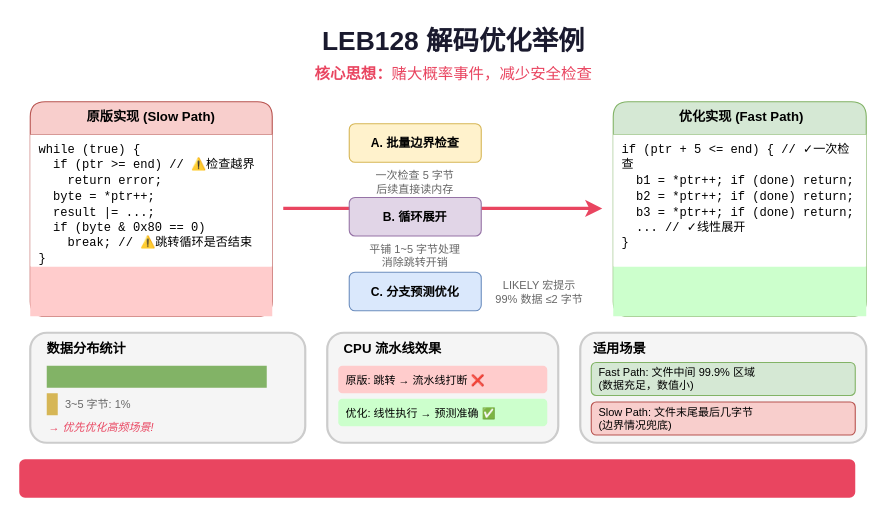
This 886x516 diagram has some shape labels left out. The centre of each missing label's shape, as x and y in pixels:
"1~2 字节: 99%" goes at (x=156, y=376).
"每字节都检查边界+循环跳转" goes at (x=151, y=291).
"💡 Fast Path 设计：为 99% 的常见情况提供快速路径，复杂情况由慢速路径兜底" goes at (x=437, y=478).
"🚀 批量检查 + 无循环 + 分支预测" goes at (x=739, y=291).
